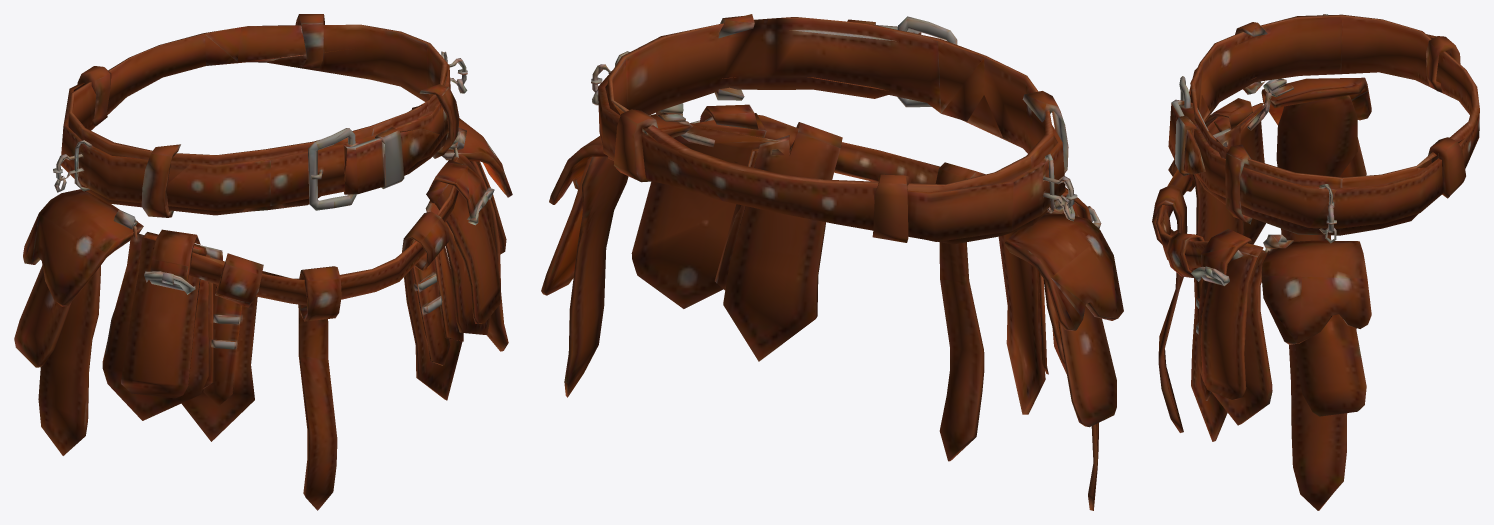
File: leather_legs.glb
The picture shows the model from 3 angles, left to right: view 1: azimuth 30°, elevation 25°; view 2: azimuth 150°, elevation 25°; view 3: azimuth 270°, elevation 25°; orthographic projection. The views are drawn at different scales.
Size of the model in its own units: 0.9521 by 0.7251 by 0.5967.
1 material, 1 textured.
